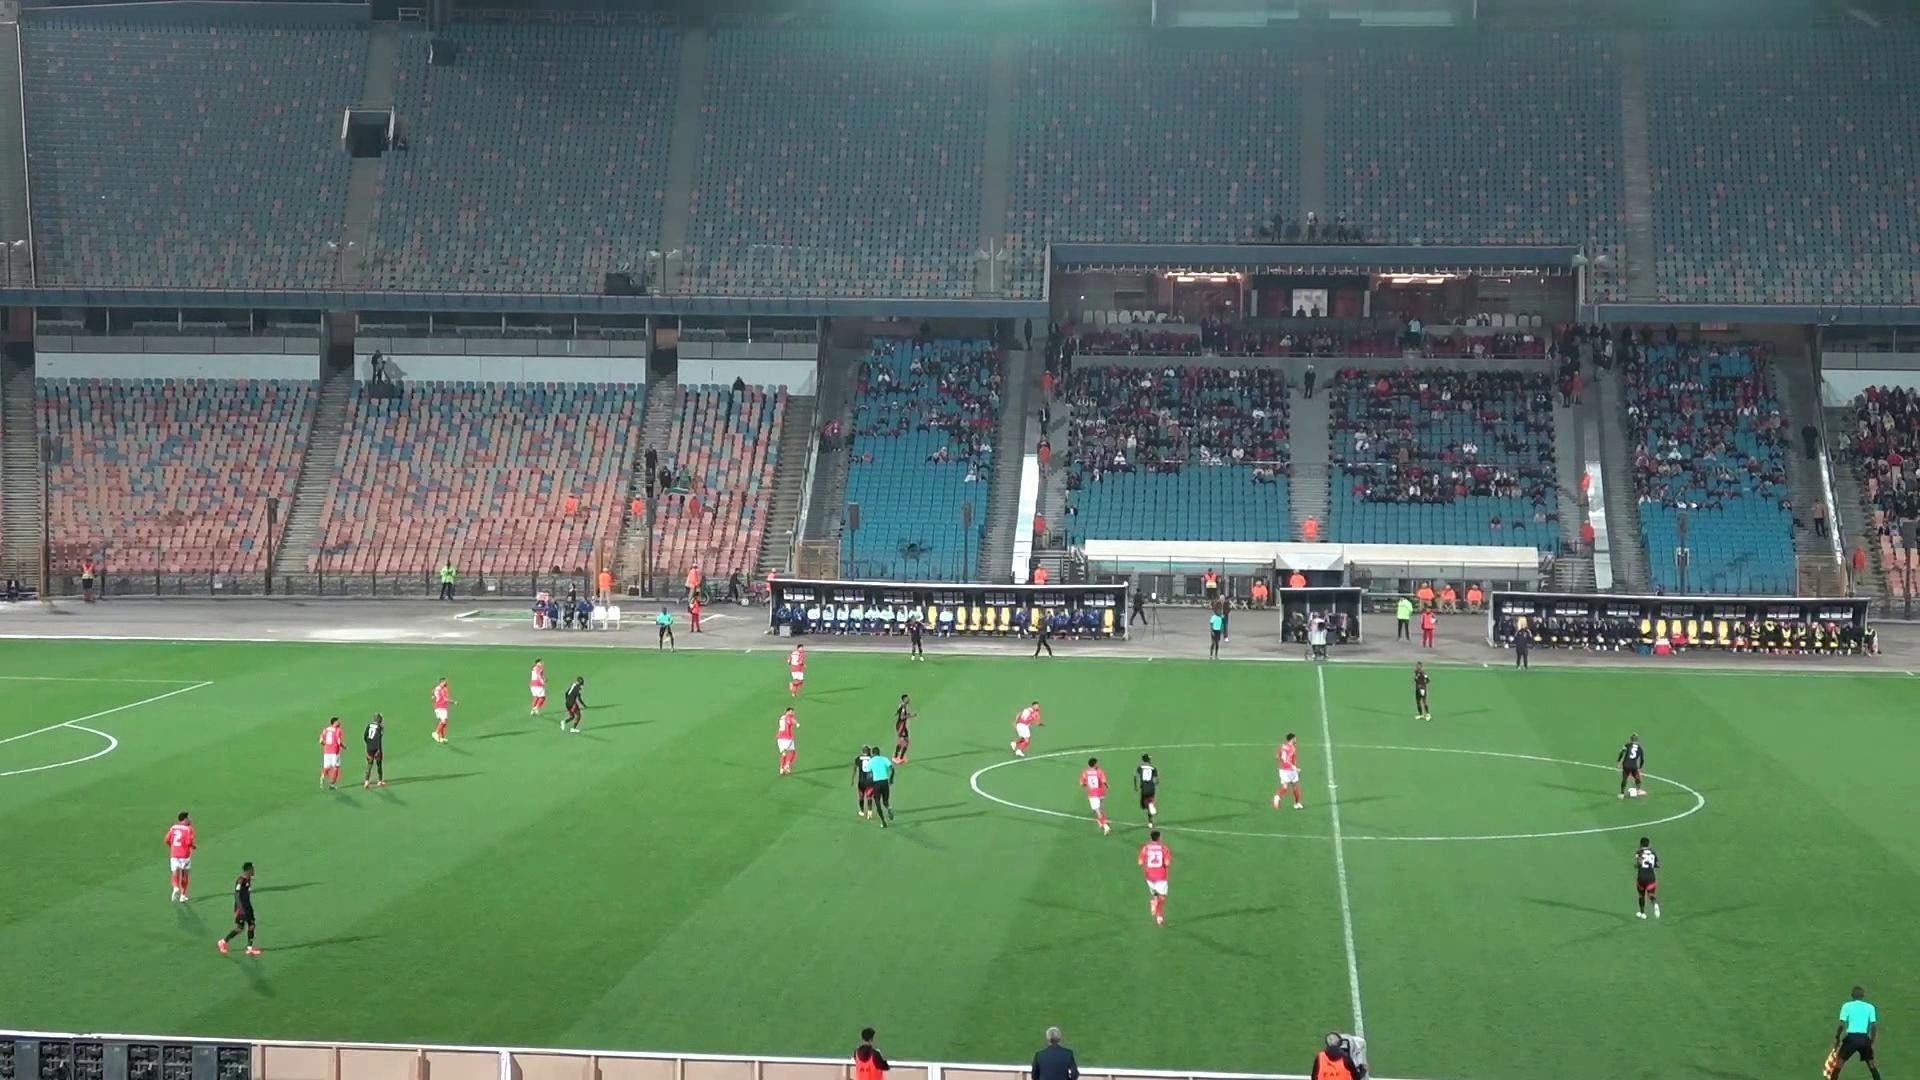Ball: (1627, 787, 1638, 799)
Refree: (1822, 985, 1880, 1079), (858, 746, 894, 825), (1209, 600, 1229, 658), (655, 607, 674, 649)
Team1: (1137, 828, 1170, 924), (1077, 757, 1110, 833), (167, 812, 194, 903), (1271, 735, 1302, 808), (319, 716, 345, 789), (1011, 702, 1042, 757), (777, 705, 798, 775), (431, 678, 454, 742), (529, 661, 546, 716), (789, 644, 804, 698)
Team2: (218, 862, 261, 955), (1634, 836, 1659, 916), (852, 744, 878, 818), (1135, 753, 1159, 827), (363, 713, 386, 786), (1617, 735, 1644, 796), (560, 676, 585, 732), (893, 694, 913, 764), (1414, 661, 1431, 720)
